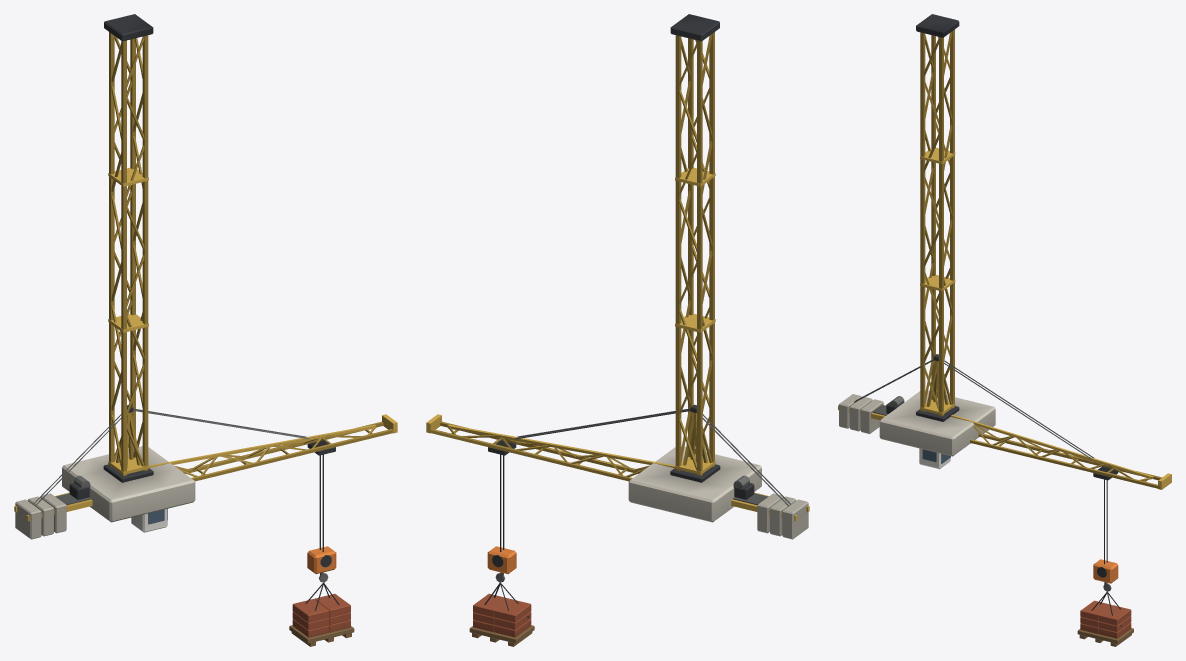
Rendered from crane.glb.
3 renders of one model, left to right at view 1: azimuth 30°, elevation 25°; view 2: azimuth 150°, elevation 25°; view 3: azimuth 330°, elevation 25°, orthographic. The views are drawn at different scales.
Visible parts, largest first — view 1: CraneMast, CraneJib, CraneLoad, CraneHook; view 2: CraneMast, CraneJib, CraneLoad, CraneHook; view 3: CraneMast, CraneJib, CraneLoad, CraneHook.
Boxes of the visible parts, bbox=[...] form: CraneMast: bbox=[62, 14, 195, 522]; CraneJib: bbox=[14, 405, 397, 539]; CraneLoad: bbox=[289, 582, 354, 646]; CraneHook: bbox=[307, 454, 336, 582]; CraneMast: bbox=[628, 14, 761, 522]; CraneJib: bbox=[426, 404, 809, 539]; CraneLoad: bbox=[469, 582, 534, 646]; CraneHook: bbox=[487, 454, 516, 582]; CraneMast: bbox=[879, 14, 995, 456]; CraneJib: bbox=[838, 354, 1171, 489]; CraneLoad: bbox=[1077, 591, 1133, 646]; CraneHook: bbox=[1093, 479, 1118, 591].
Bounding box in the file's own units: 10.36 × 17.58 × 2.4.
